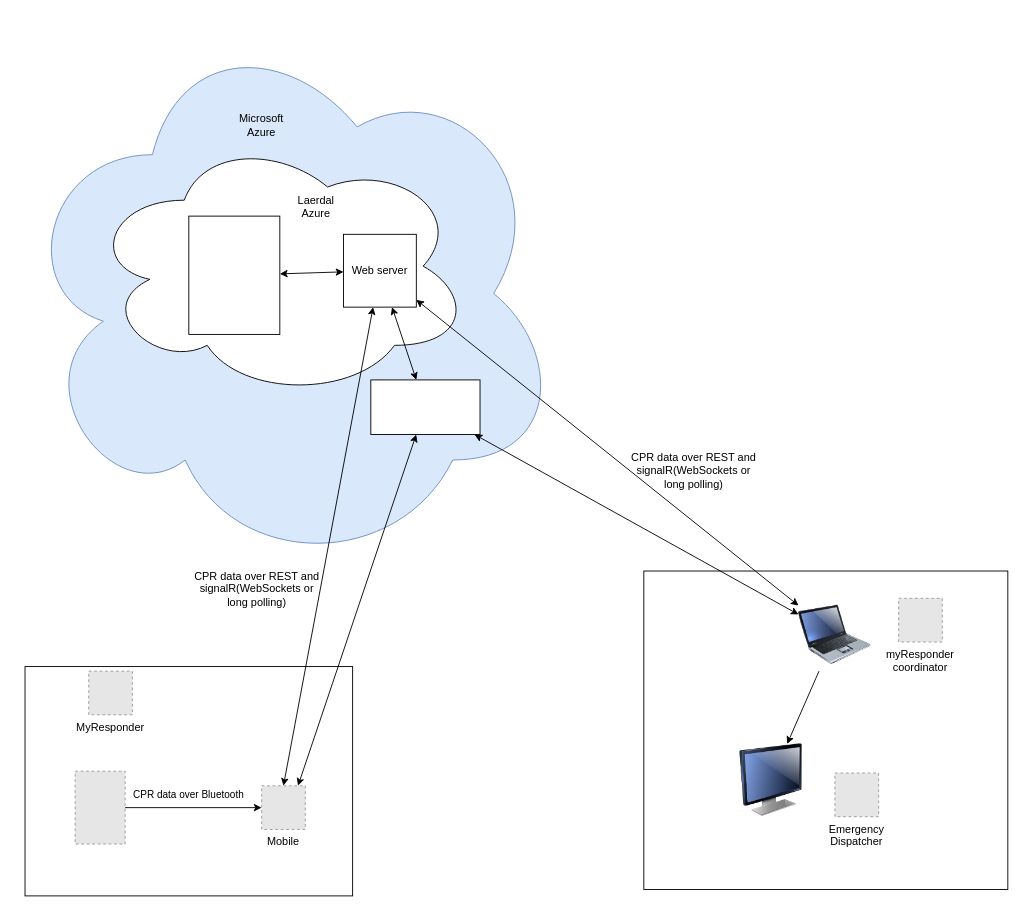
The diagram is 1024 pixels wide and 912 high, and some of its shapes have lost their labels. Grey dashed boxes stand in for pictures. The shapes that lost their labels are listed below. From the top down, each one's box as (x1, y1, x2, y2) in pixels, then its label:
(188, 215, 280, 334): MS sql server
(370, 379, 480, 435): Azure Communication Services
